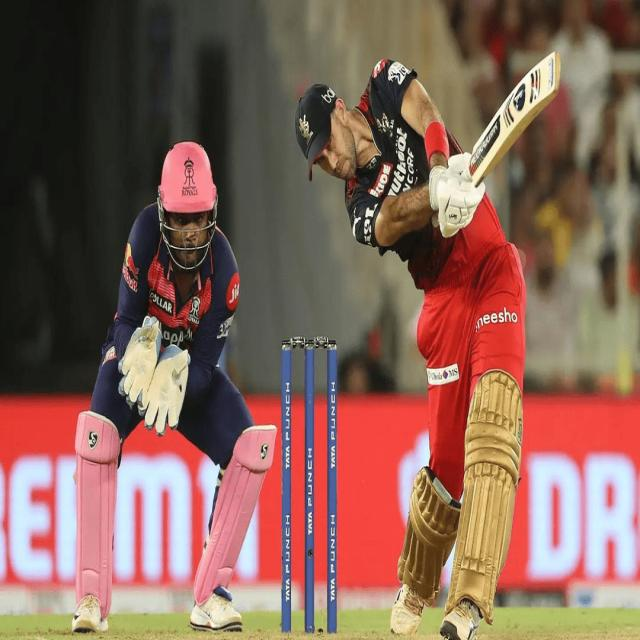stump: (281, 337, 338, 634)
